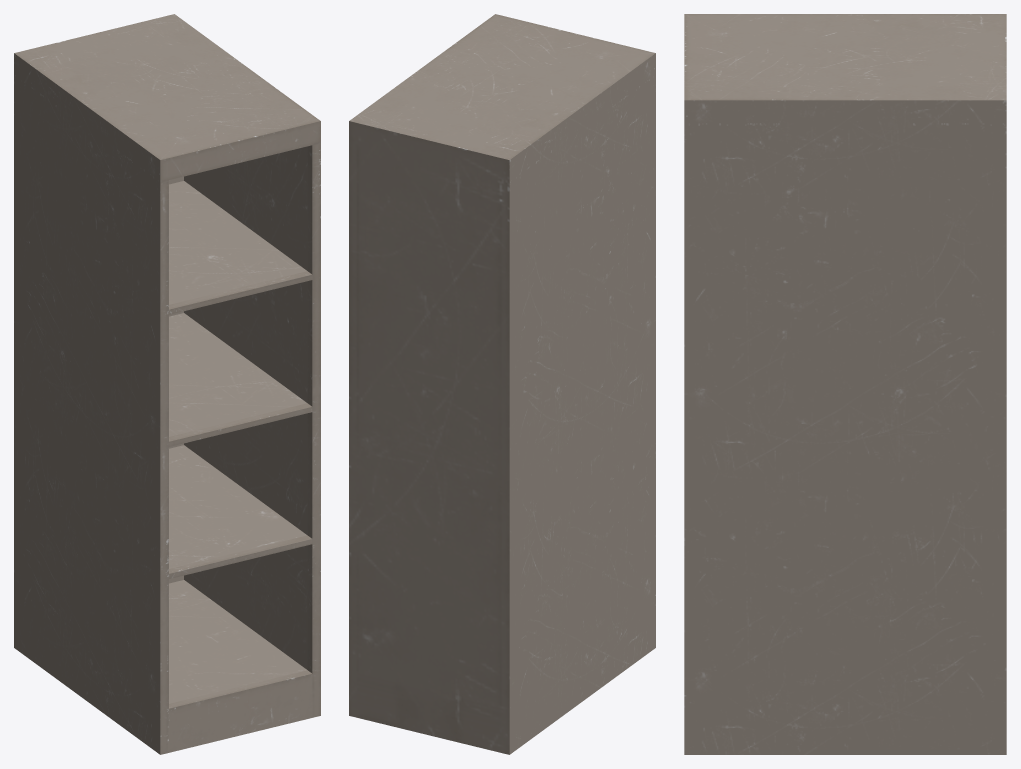
File: SM_Filecabinet_01_Filecabinet_01.fbx
The picture shows the model from 3 angles, left to right: view 1: azimuth 30°, elevation 25°; view 2: azimuth 150°, elevation 25°; view 3: azimuth 270°, elevation 25°; orthographic projection. The views are drawn at different scales.
Visible parts, largest first — view 1: SM_Filecabinet_01_Filecabinet_01; view 2: SM_Filecabinet_01_Filecabinet_01; view 3: SM_Filecabinet_01_Filecabinet_01.
Part boxes in pixels (x1,y1,x2,y2): SM_Filecabinet_01_Filecabinet_01: (14, 14, 320, 754); SM_Filecabinet_01_Filecabinet_01: (349, 14, 655, 754); SM_Filecabinet_01_Filecabinet_01: (684, 14, 1006, 754).
Size of the model in its own units: 38 by 60 by 135.
Materials: 1 (1 with a texture image).
